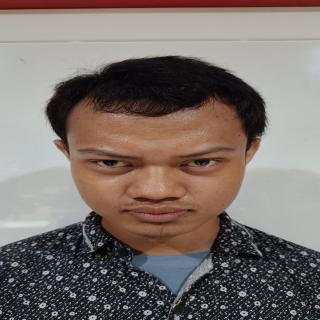Marah: (62, 91, 249, 241)
